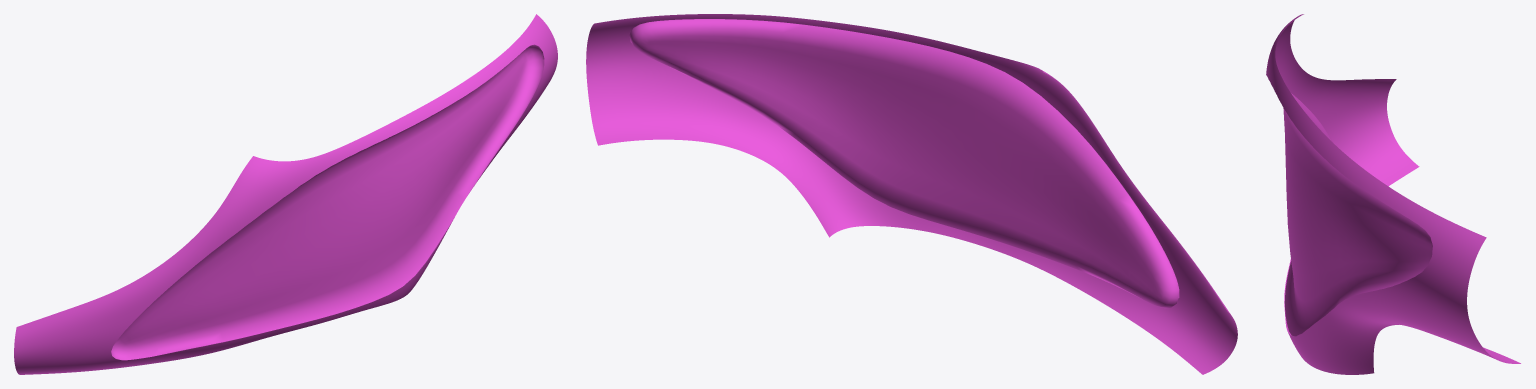
Rendered from cuban_side_cavity.glb.
The picture shows the model from 3 angles, left to right: view 1: azimuth 30°, elevation 25°; view 2: azimuth 150°, elevation 25°; view 3: azimuth 270°, elevation 25°; orthographic projection. The views are drawn at different scales.
Visible parts, largest first — view 1: cuban_side_cavity; view 2: cuban_side_cavity; view 3: cuban_side_cavity.
Part boxes in pixels (bbox=[...]): cuban_side_cavity: bbox=[14, 14, 557, 374]; cuban_side_cavity: bbox=[586, 14, 1237, 374]; cuban_side_cavity: bbox=[1266, 14, 1520, 374].
Size of the model in its own units: 0.1365 by 0.0483 by 0.0383.
